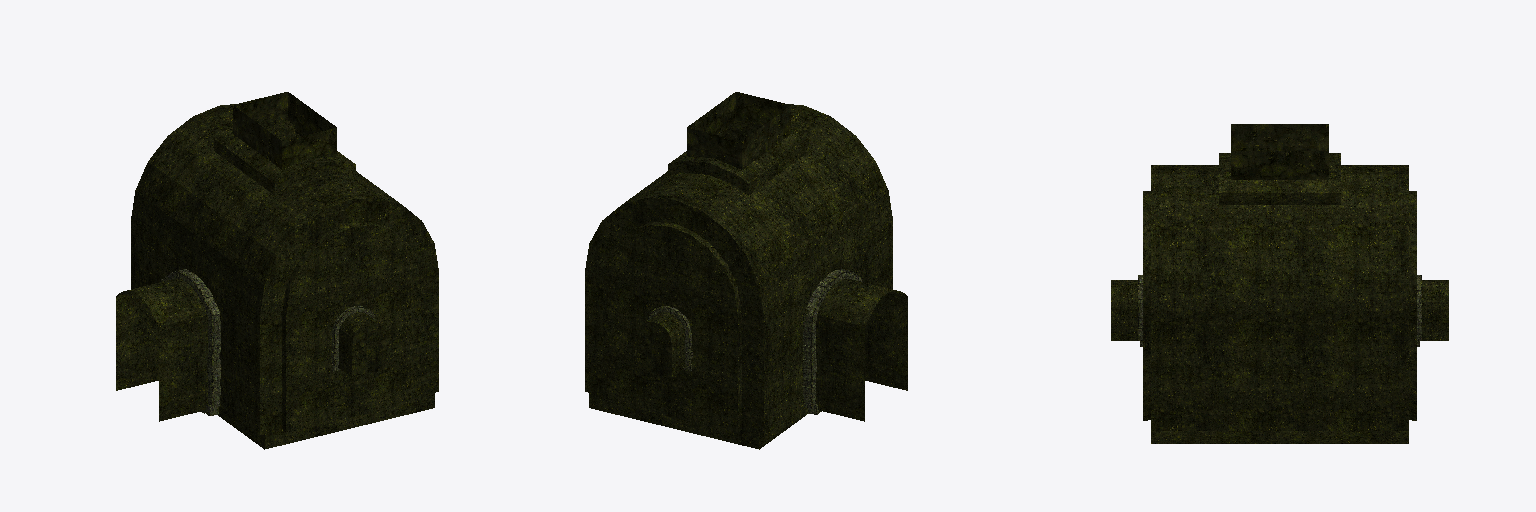
The picture shows the model from 3 angles: view 1: azimuth 30°, elevation 25°; view 2: azimuth 150°, elevation 25°; view 3: azimuth 270°, elevation 25°; orthographic projection.
Visible parts, largest first — view 1: mesh6, mesh2, mesh3; view 2: mesh6, mesh2, mesh3; view 3: mesh6, mesh2, mesh3.
Boxes of the visible parts, x1,y1,x2,y2 form: mesh6: [116, 104, 420, 434]; mesh2: [214, 92, 438, 449]; mesh3: [160, 269, 375, 415]; mesh6: [603, 104, 907, 434]; mesh2: [585, 92, 809, 449]; mesh3: [647, 269, 861, 414]; mesh6: [1111, 165, 1448, 430]; mesh2: [1143, 124, 1416, 443]; mesh3: [1138, 275, 1421, 346].
Size of the model in its own units: 5.3 by 5.67 by 6.53.
7 materials, 5 textured.